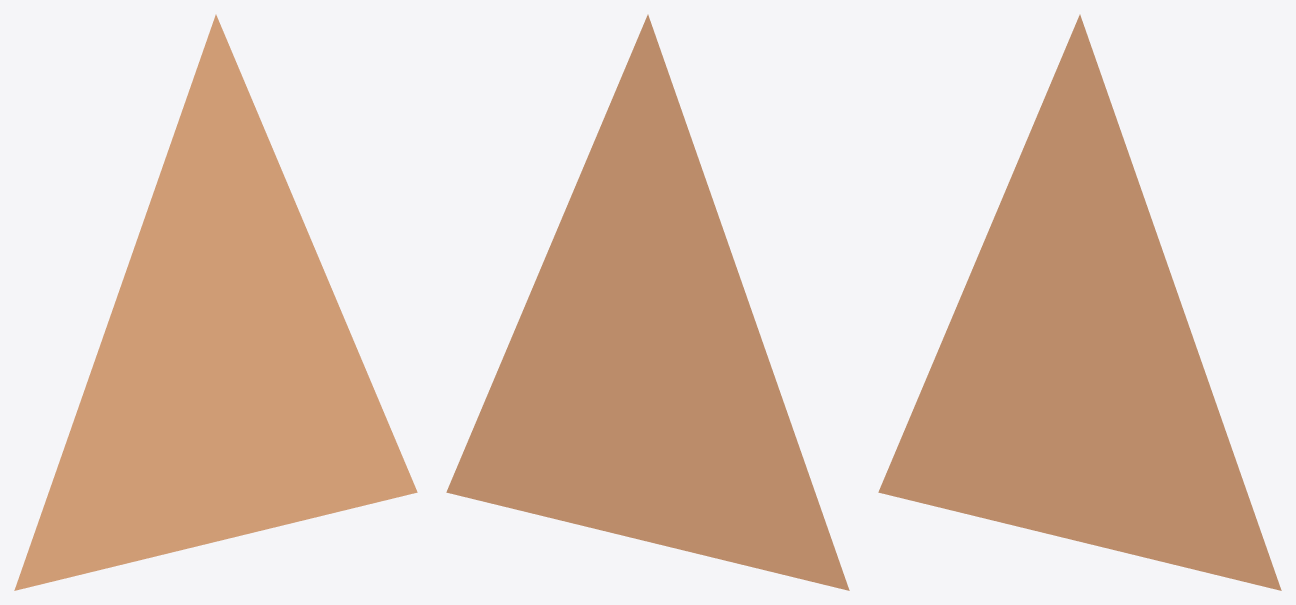
File: sparse.gltf
3 renders of one model, left to right at view 1: azimuth 30°, elevation 25°; view 2: azimuth 150°, elevation 25°; view 3: azimuth 330°, elevation 25°, orthographic.
Size of the model in its own units: 1.6 by 2 by 0.
